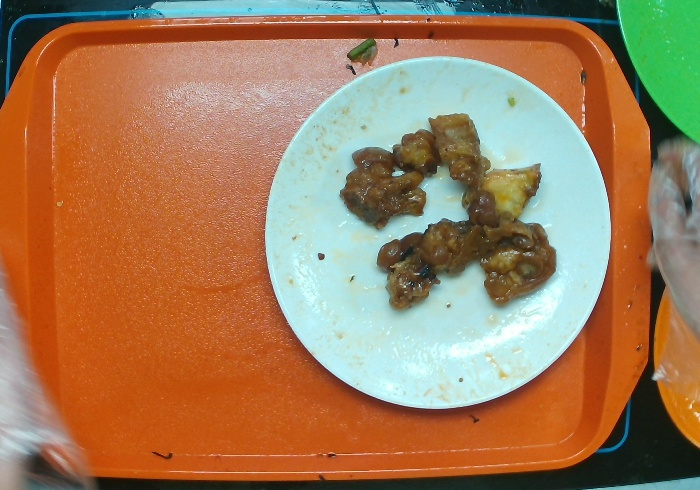HZYJPL-Bai_Se_Yuan_Pan: (262, 54, 613, 411)
